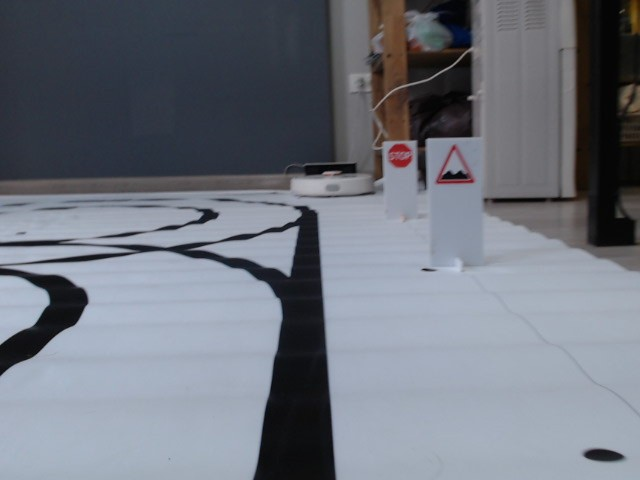Nerov: (433, 142, 476, 185)
Stop: (385, 142, 414, 168)
